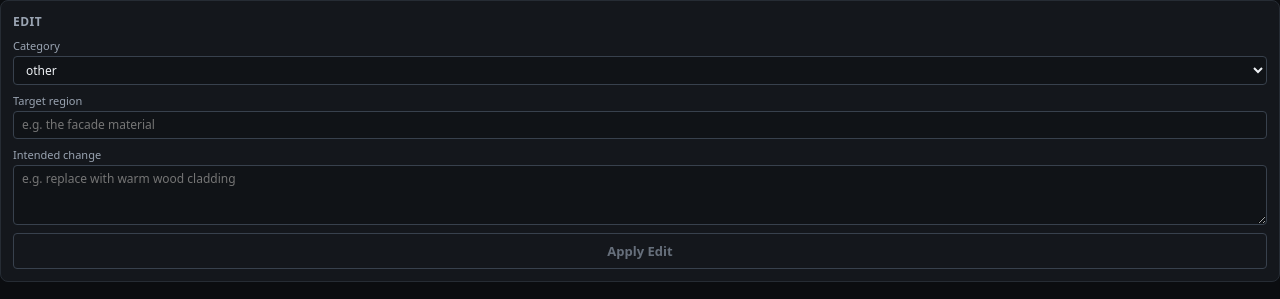
EditPanel — BUILD 14 Advanced Editor › renders the real form once a generation exists, disabled until target region and intended change are filled
Expected: the button "Apply Edit" is disabled, [13, 233, 1267, 269]
Type "the facade material" into the field labelled "Target region" at (640, 125), box [13, 111, 1267, 139]
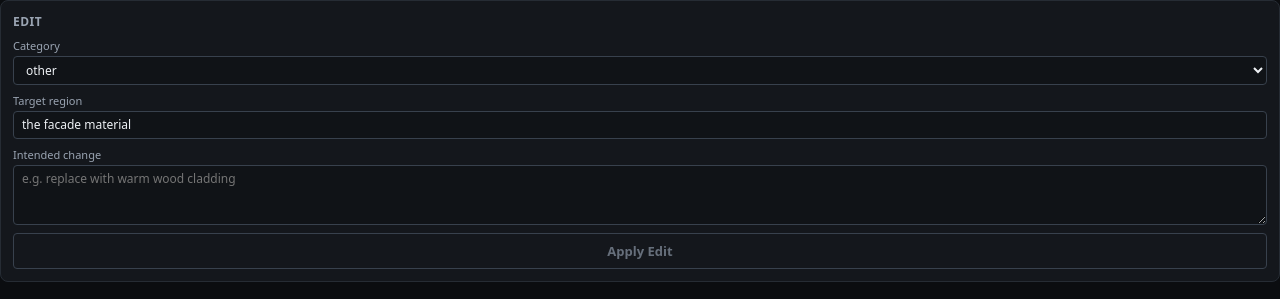
Expected: the button "Apply Edit" is disabled, [13, 233, 1267, 269]
Type "replace with warm wood cladding" into the text box labelled "Intended change" at (640, 195), box [13, 165, 1267, 225]
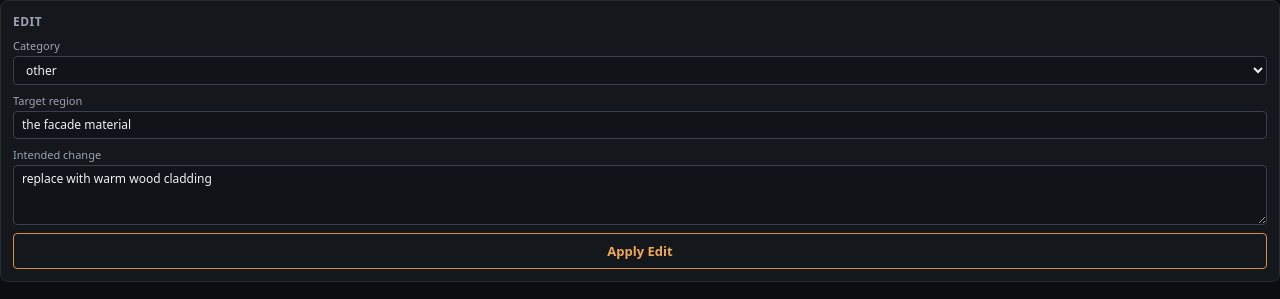
Expected: the button "Apply Edit" is enabled, [13, 233, 1267, 269]
